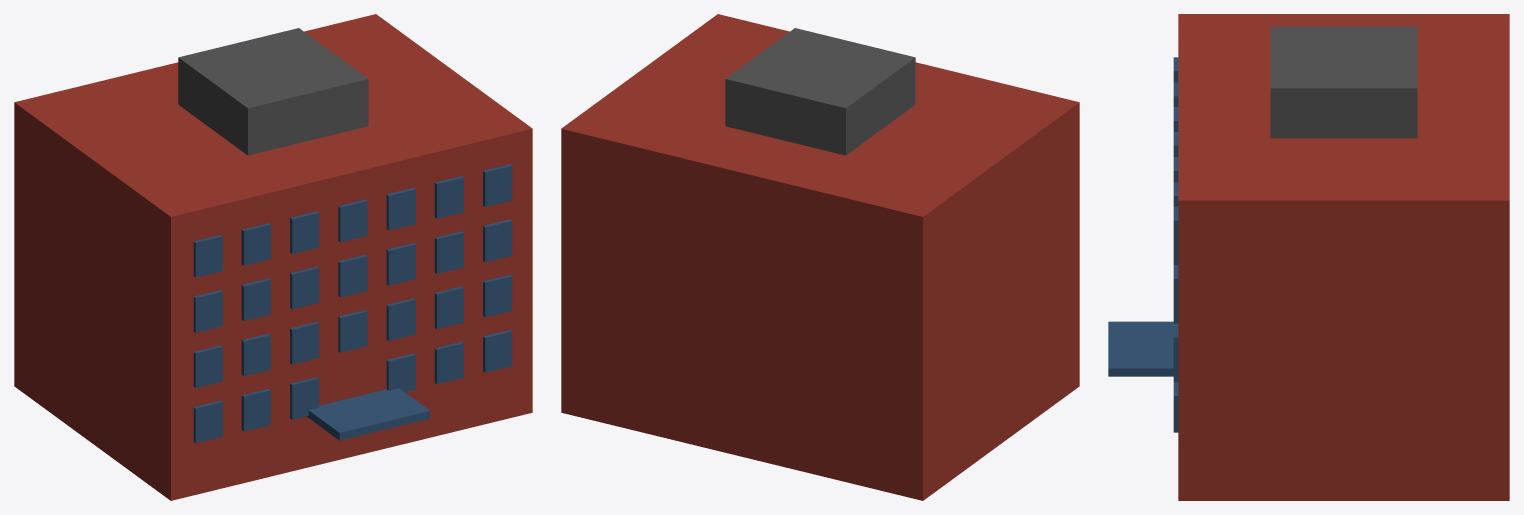
File: apartment_mid_01.glb
The picture shows the model from 3 angles, left to right: view 1: azimuth 30°, elevation 25°; view 2: azimuth 150°, elevation 25°; view 3: azimuth 270°, elevation 25°; orthographic projection. The views are drawn at different scales.
Bounding box in the file's own units: 24 × 21 × 21.8.
